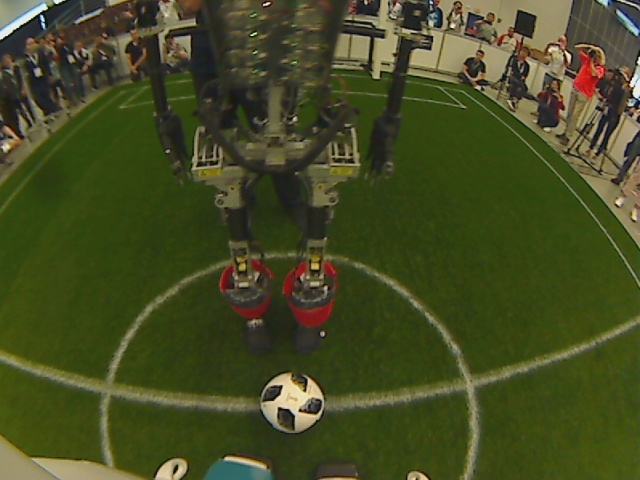ball: (258, 369, 328, 437)
